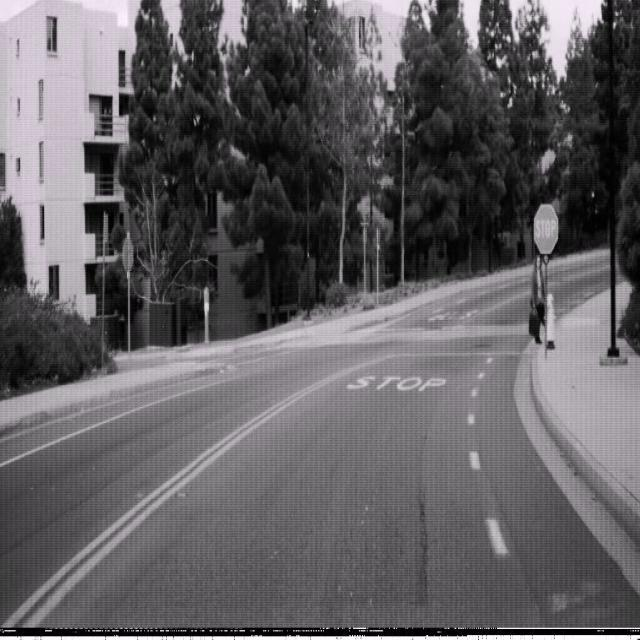stop: (533, 202, 558, 255)
